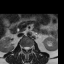CCS_normal: (25, 44, 27, 54)
LFS_normal: (29, 44, 31, 50)
LLS_normal: (27, 44, 29, 51)
RFS_normal: (22, 44, 23, 50)
RLS_normal: (23, 44, 25, 51)
